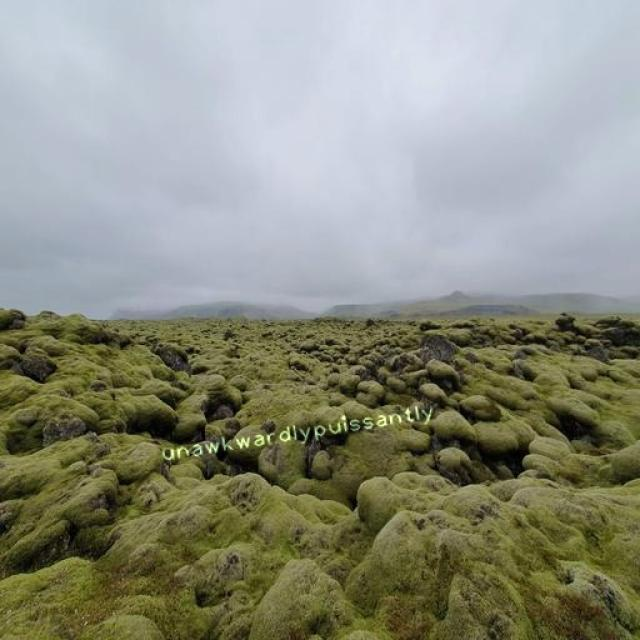watermark: (156, 402, 436, 464)
